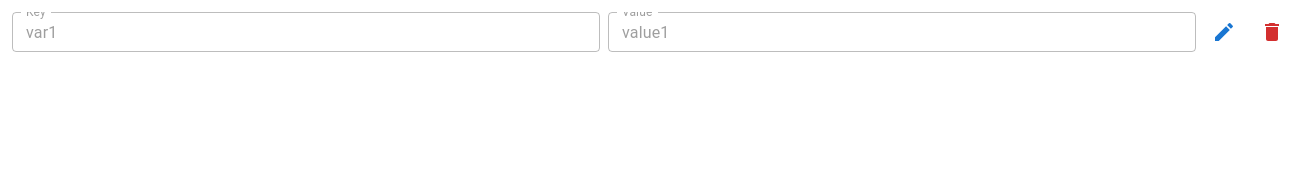
VariableInput Component › enables editing when the Edit button is clicked
The width and height of the screenshot is (1304, 172).
Expected: the field labelled "Key" is disabled, left=12, top=12, right=600, bottom=52
Expected: the field labelled "Value" is disabled, left=608, top=12, right=1196, bottom=52
Click the button named "variable-change". click: (1224, 32)
box: left=1204, top=12, right=1244, bottom=52
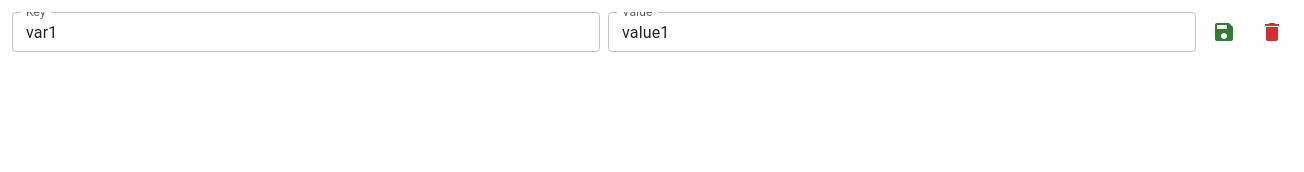
Expected: the field labelled "Key" is enabled, left=12, top=12, right=600, bottom=52
Expected: the field labelled "Value" is enabled, left=608, top=12, right=1196, bottom=52
